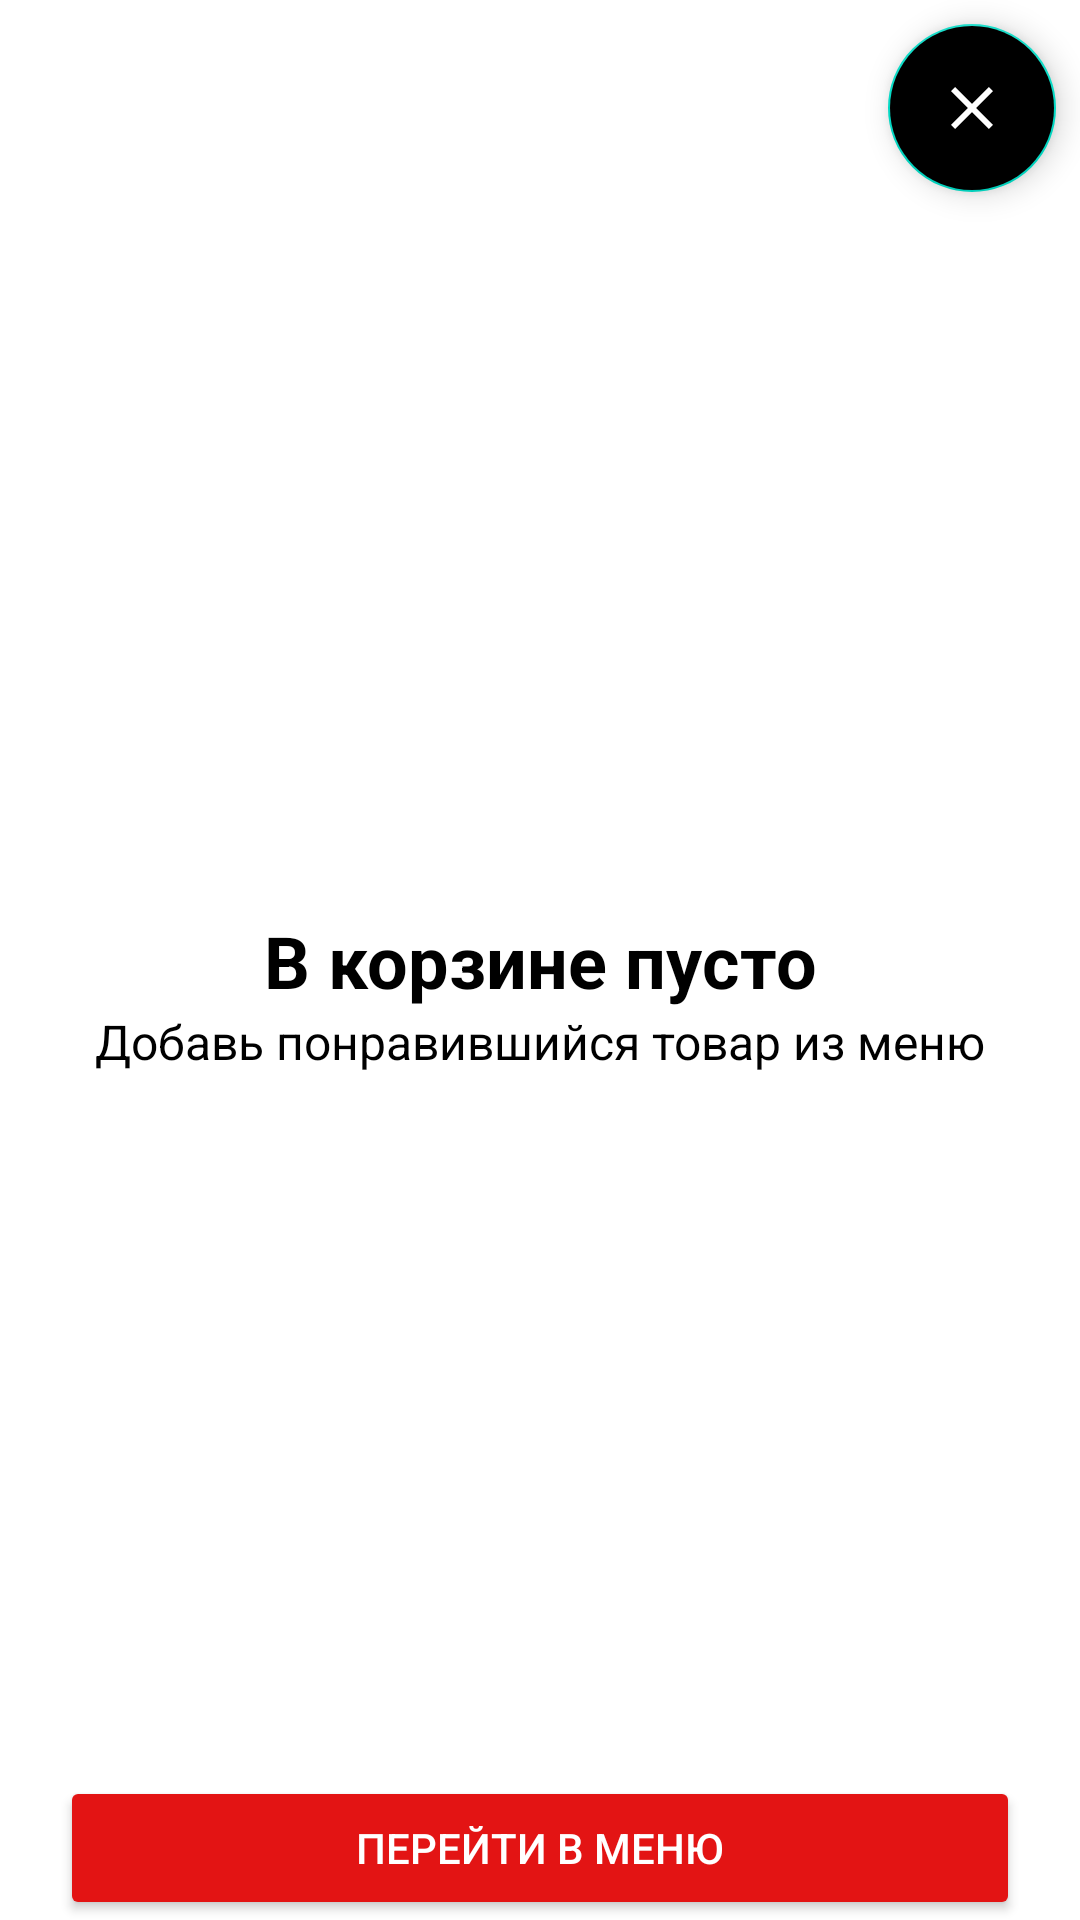

Screen size 1080px×1920px. Icon name, then its box in pixels as (x1,y1,x2,y2):
close: (888,24,1056,192)
